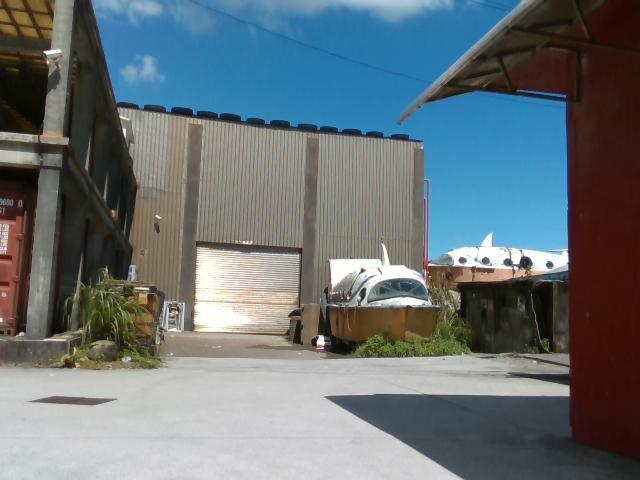pollute: (109, 260, 187, 357), (284, 302, 335, 351)
